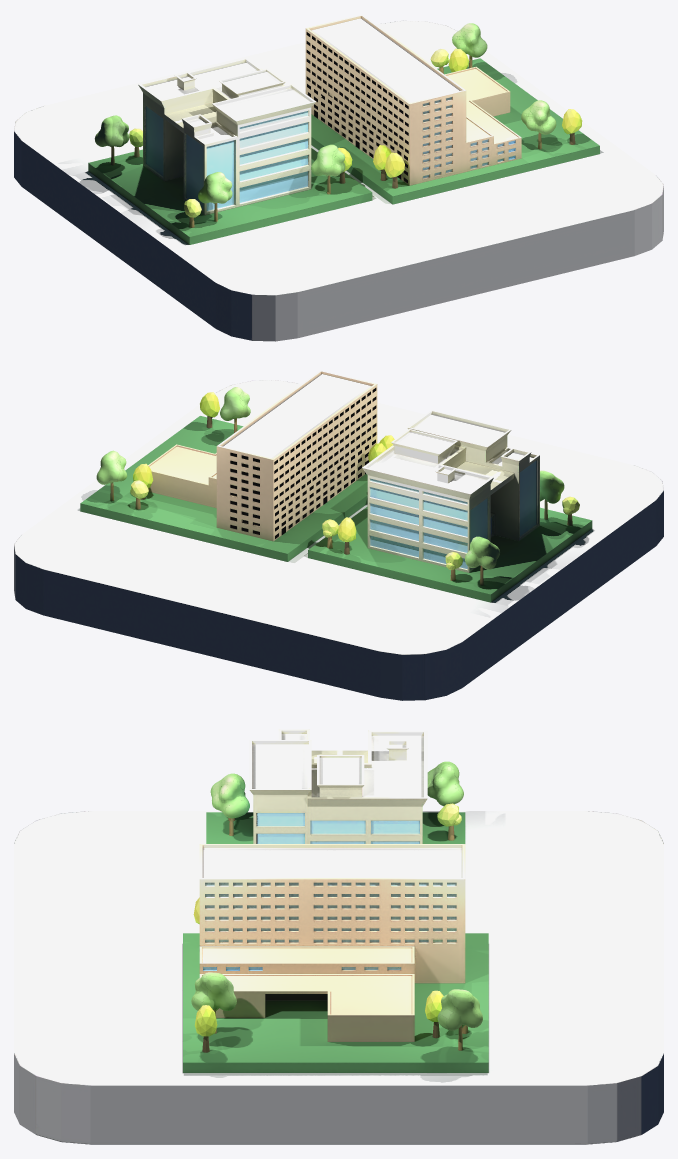
The picture shows the model from 3 angles, top to bottom: view 1: azimuth 30°, elevation 25°; view 2: azimuth 150°, elevation 25°; view 3: azimuth 270°, elevation 25°; orthographic projection. The views are drawn at different scales.
Parts seen in each view (by area): view 1: Cube, 電資學院1, Plane.004, Cylinder.042; view 2: Cube, 電資學院1, Plane.004, Cylinder.042; view 3: Cube, 電資學院1, Plane.004, Cylinder.042.
Part boxes in pixels (x1,y1,x2,y2): Cube: (14,20,663,341); 電資學院1: (138,14,521,215); Plane.004: (88,58,599,244); Cylinder.042: (94,23,582,227); Cube: (14,380,663,700); 電資學院1: (148,370,539,572); Plane.004: (80,416,592,602); Cylinder.042: (96,387,579,585); Cube: (14,811,663,1144); 電資學院1: (199,729,465,1041); Plane.004: (183,812,488,1072); Cylinder.042: (191,761,482,1052).
Size of the model in its own units: 17 by 5.29 by 17.
Materials: 14 (14 with a texture image).
